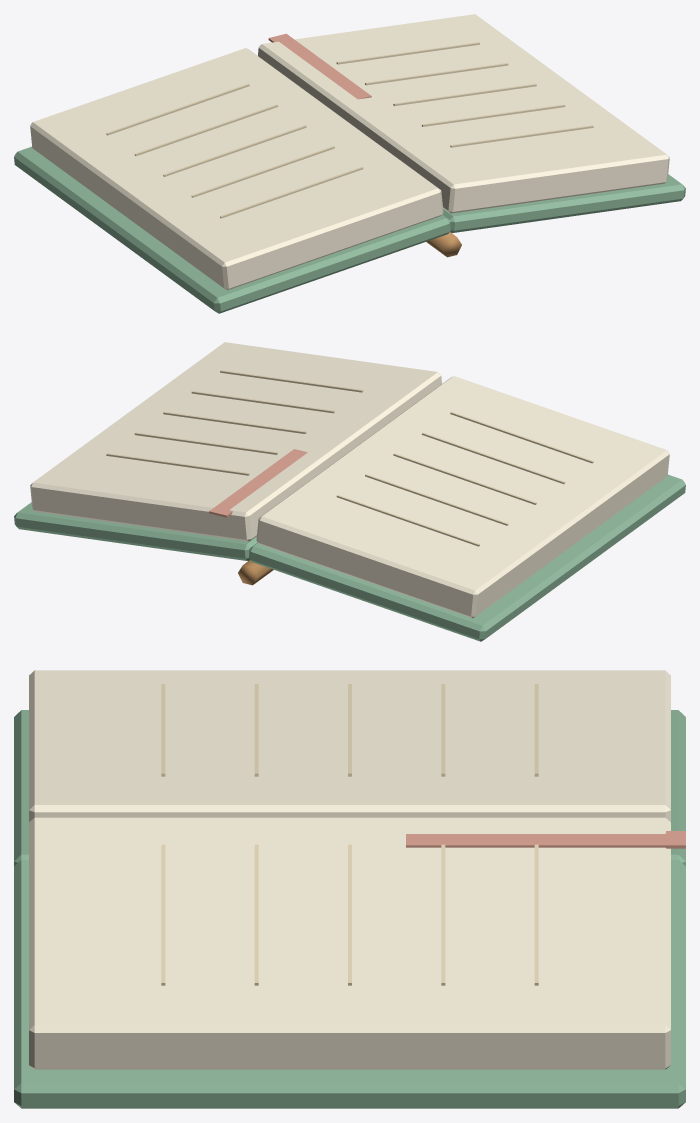
The model's file is livre.glb.
3 renders of one model, top to bottom at view 1: azimuth 30°, elevation 25°; view 2: azimuth 150°, elevation 25°; view 3: azimuth 270°, elevation 25°, orthographic. The views are drawn at different scales.
Parts seen in each view (by area): view 1: livre; view 2: livre; view 3: livre.
Part boxes in pixels (x1,y1,x2,y2): livre: (14, 14, 685, 313); livre: (14, 342, 685, 641); livre: (14, 670, 685, 1108).
Size of the model in its own units: 0.24 by 0.0338 by 0.18.
